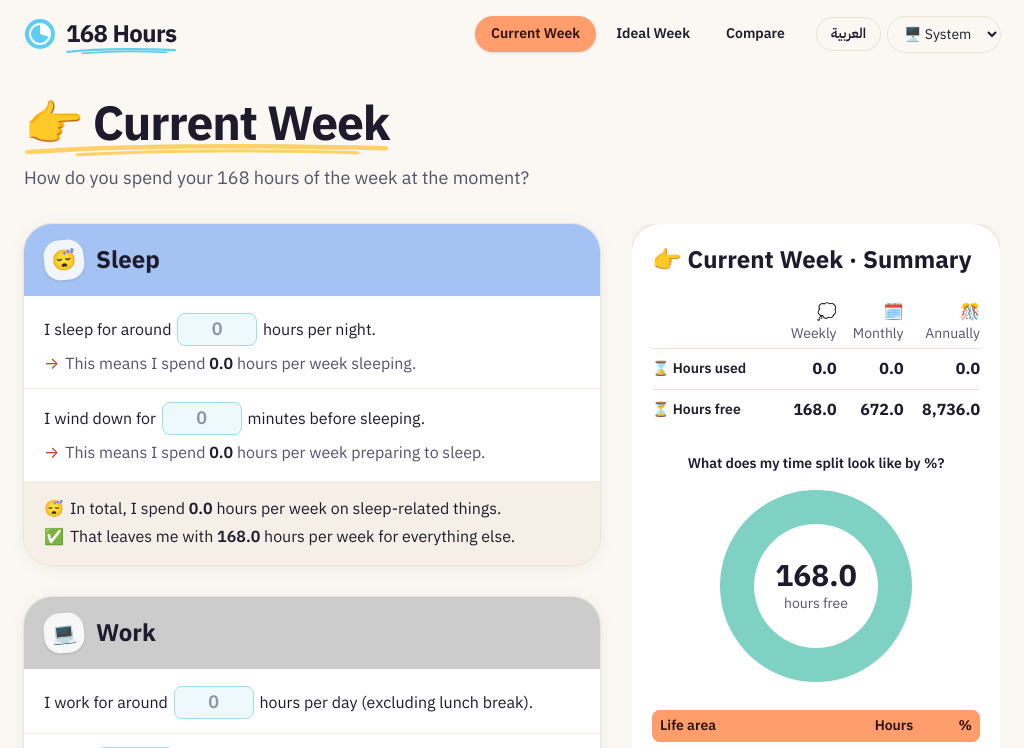
Scenario: week form › accepts decimals with a comma and Arabic digits
The width and height of the screenshot is (1024, 748).
Type "7,5" into the field labelled "I sleep for around hours per night." at (217, 329), box [177,313,257,346]
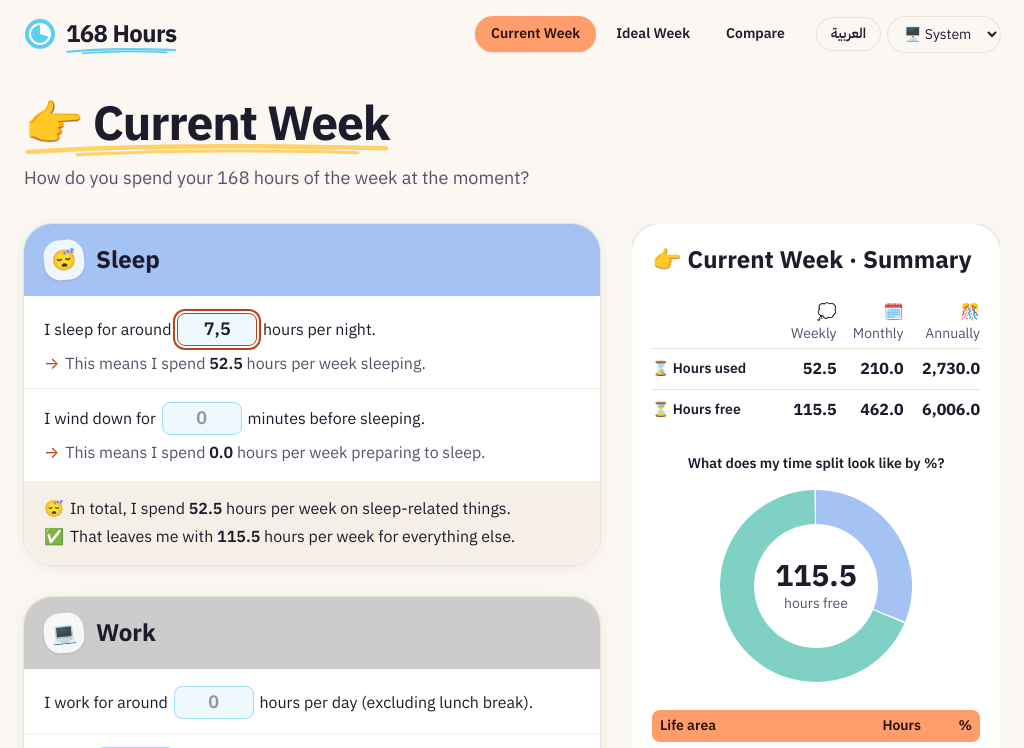
Now the text "→This means I spend 52.5 hours per week sleeping." is shown, box [44,352,426,376]
Type "٦٠" into the field labelled "I wind down for minutes before sleeping." at (202, 418), box [162,402,242,434]
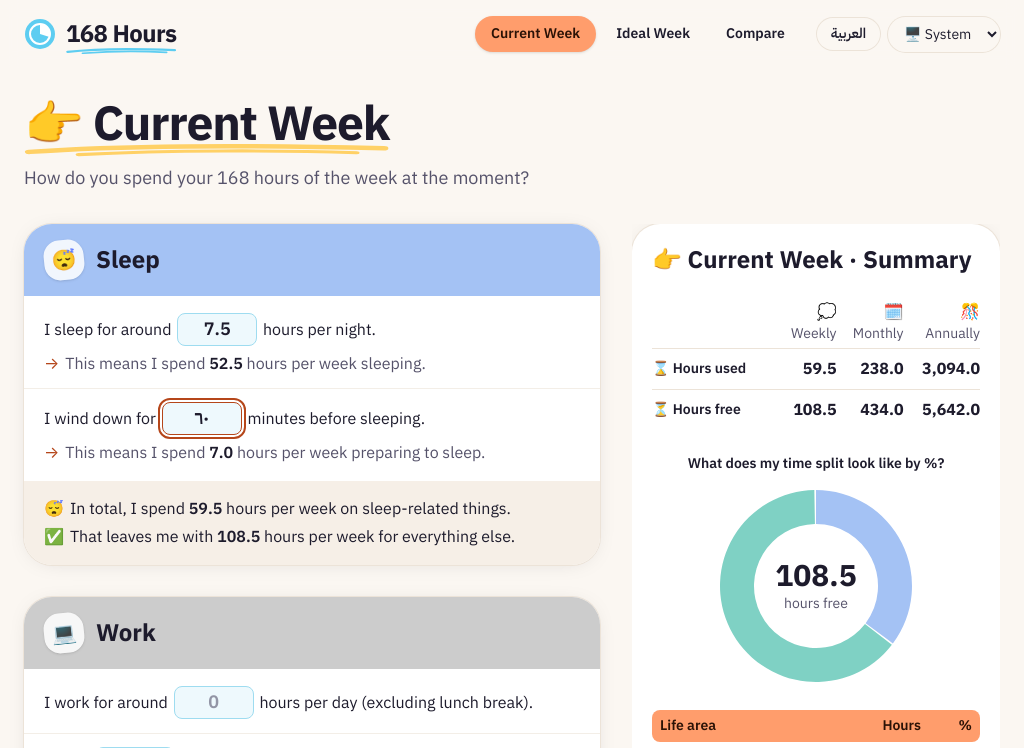
Now the text "→This means I spend 7.0 hours per week preparing to sleep." is shown, box [44,441,485,465]
